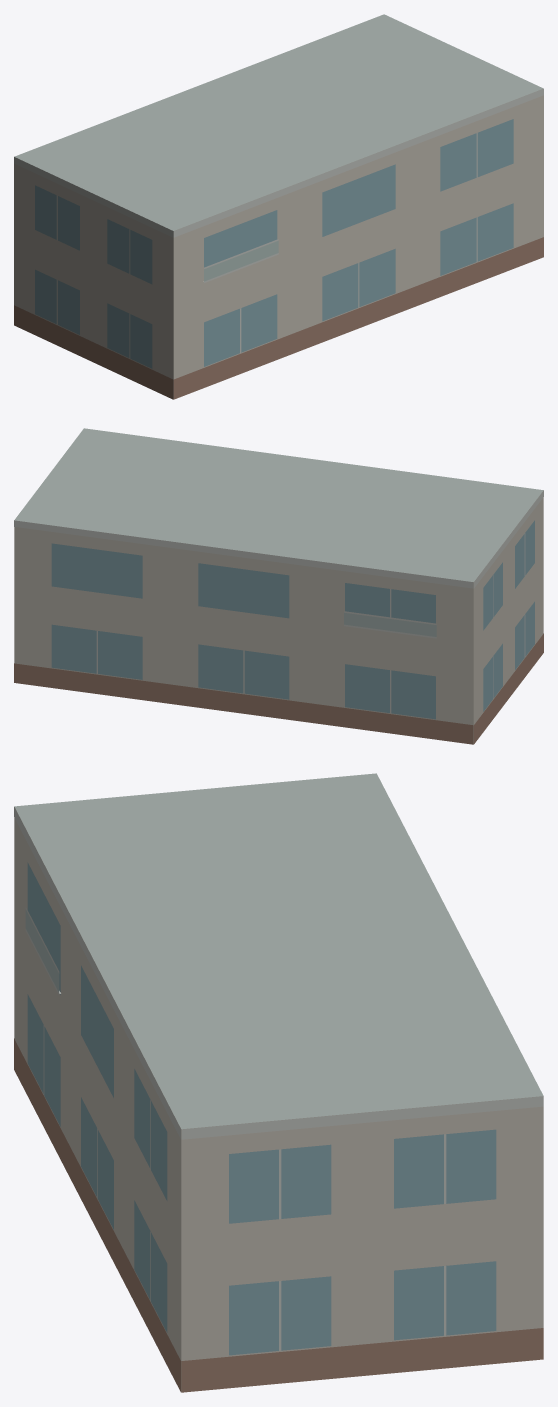
The model's file is survey-upis-32699347.glb.
3 views of the same model, one above another, from view 1: azimuth 30°, elevation 25°; view 2: azimuth 150°, elevation 25°; view 3: azimuth 270°, elevation 25° (orthographic). The views are drawn at different scales.
Visible parts, largest first — view 1: survey-upis-32699347.tmp; view 2: survey-upis-32699347.tmp; view 3: survey-upis-32699347.tmp.
Boxes of the visible parts, <box> form: survey-upis-32699347.tmp: <box>14,14,543,399</box>; survey-upis-32699347.tmp: <box>14,428,543,744</box>; survey-upis-32699347.tmp: <box>14,773,543,1392</box>.
Size of the model in its own units: 17.7 by 6.1 by 11.13.
